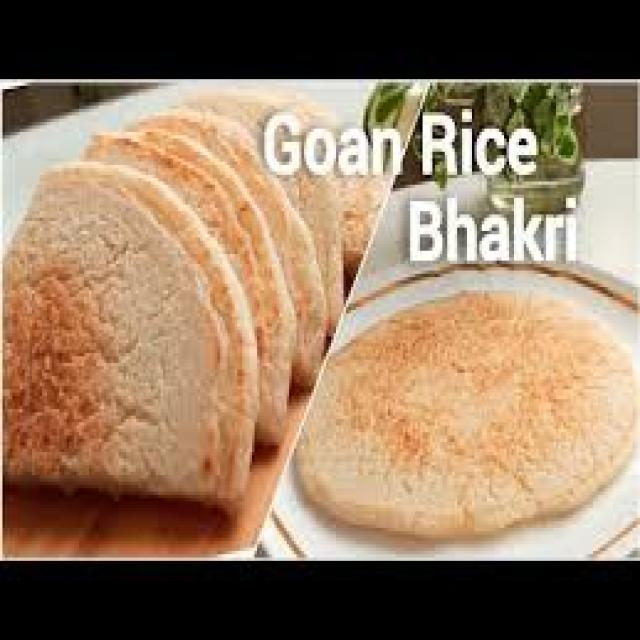RICE BHAKRI: (1, 96, 382, 501), (295, 290, 638, 526)
